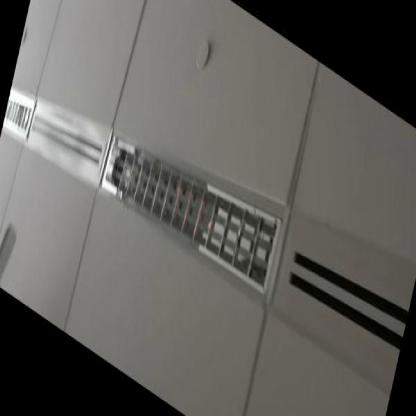light_off: (91, 80, 297, 333), (0, 72, 45, 162)
